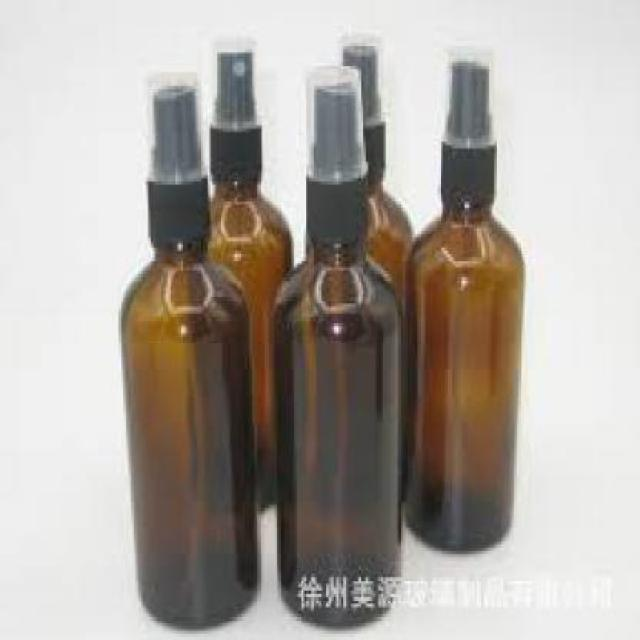kaca: (122, 242, 260, 628), (270, 235, 396, 628), (397, 191, 521, 551), (206, 172, 292, 512), (349, 158, 414, 317)
